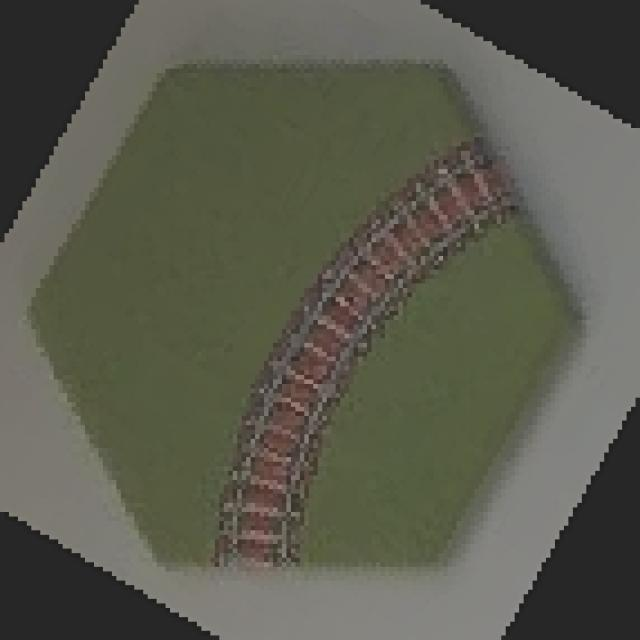2_1: (32, 60, 587, 572)
